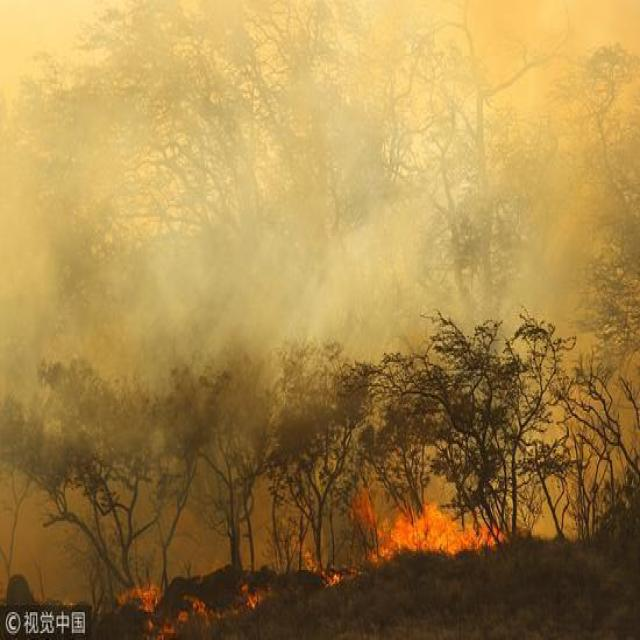fire: (362, 483, 505, 568), (294, 535, 341, 589), (121, 578, 163, 621), (235, 574, 264, 616), (183, 587, 213, 617)
smoke: (336, 225, 418, 319)
